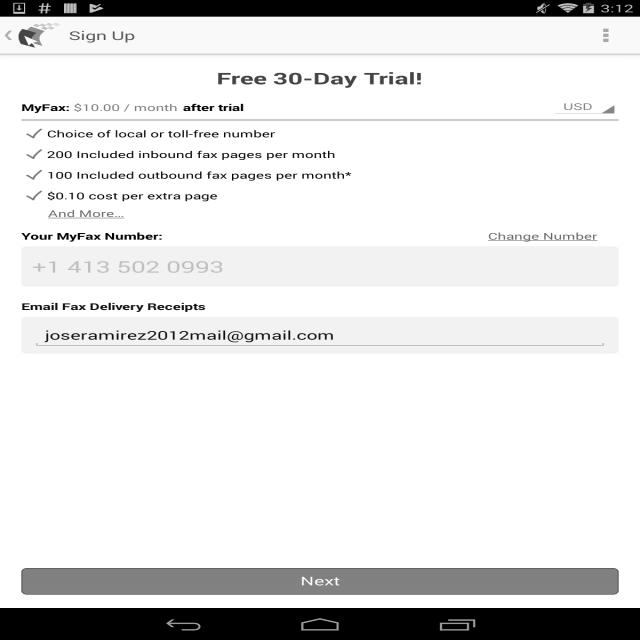Button: (21, 568, 619, 595)
EditText: (32, 322, 608, 348)
ImageButton: (571, 16, 640, 54)
ImageView: (14, 19, 64, 52), (0, 30, 17, 41)
Spinner: (550, 96, 619, 117)
TextView: (21, 121, 619, 142), (21, 162, 619, 183), (21, 183, 619, 204), (21, 142, 619, 162), (21, 300, 619, 313), (162, 226, 618, 242), (32, 249, 224, 284), (216, 67, 423, 89), (74, 96, 178, 119), (21, 226, 163, 242), (48, 203, 149, 220), (178, 96, 244, 119), (21, 96, 74, 119), (69, 27, 135, 43), (554, 100, 602, 113)
